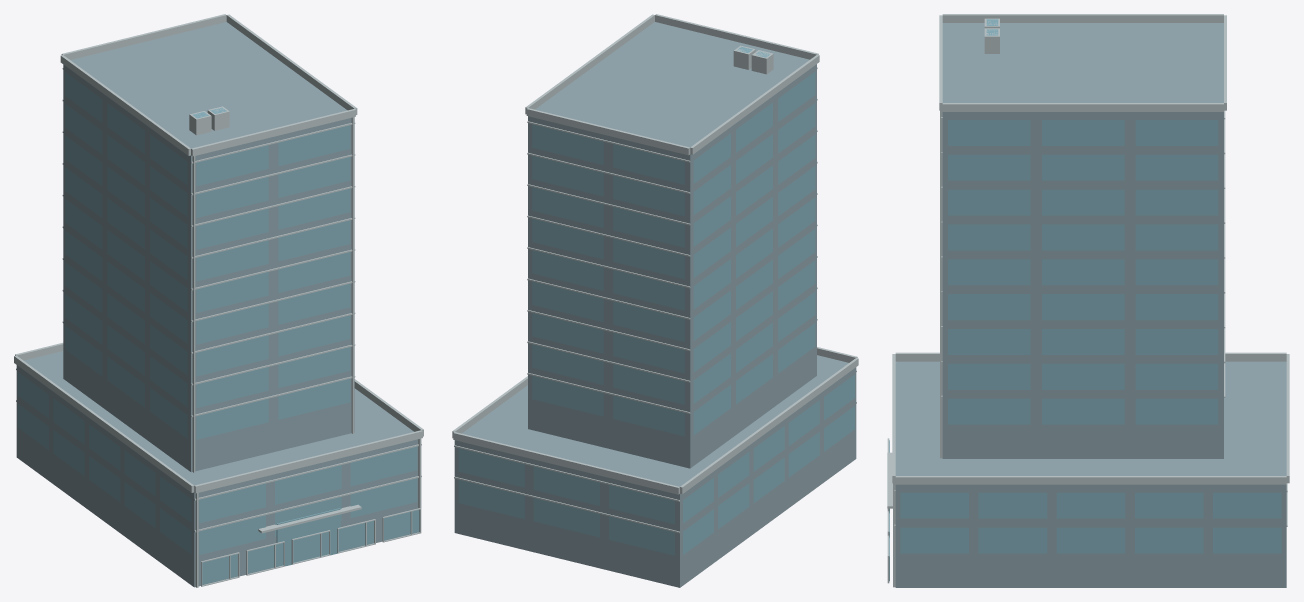
Rendered from commercial_3x4_b.glb.
3 renders of one model, left to right at view 1: azimuth 30°, elevation 25°; view 2: azimuth 150°, elevation 25°; view 3: azimuth 270°, elevation 25°, orthographic. The views are drawn at different scales.
Parts seen in each view (by area): view 1: commercial_3x4_b_0; view 2: commercial_3x4_b_0; view 3: commercial_3x4_b_0.
Part boxes in pixels (left/top/right/bottom): commercial_3x4_b_0: left=14, top=14, right=423, bottom=587; commercial_3x4_b_0: left=452, top=14, right=858, bottom=587; commercial_3x4_b_0: left=887, top=14, right=1289, bottom=587.
Bounding box in the file's own units: 23 × 40.5 × 31.4.
